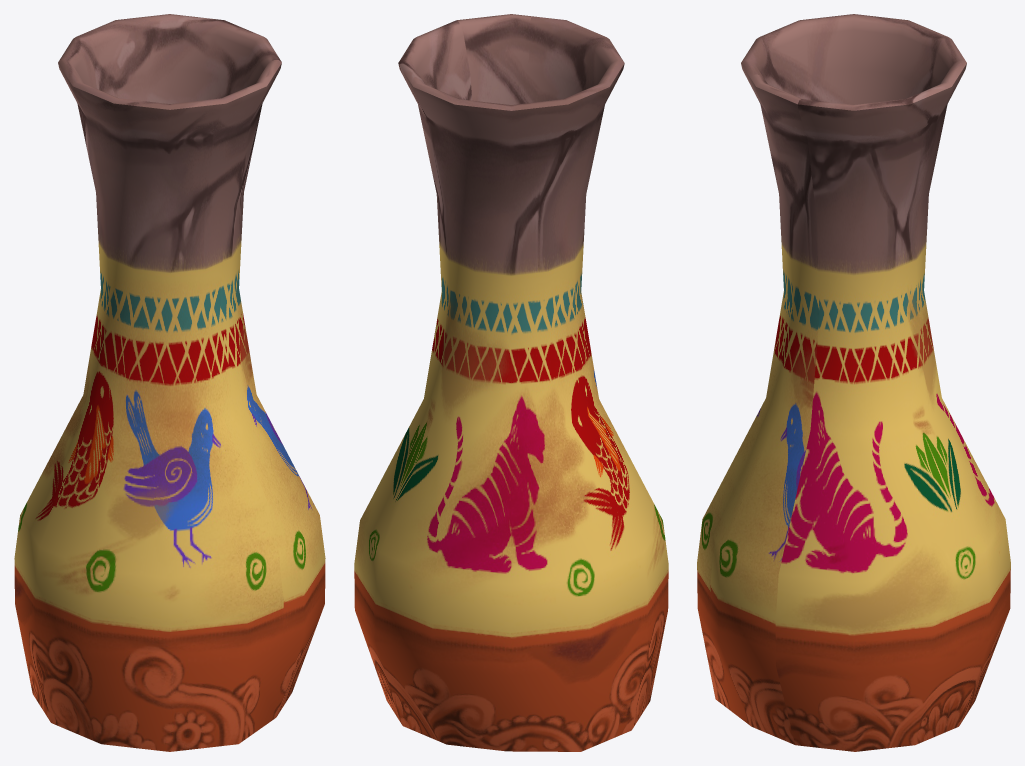
File: Market_pottery5.fbx
3 views of the same model, side by side, from view 1: azimuth 30°, elevation 25°; view 2: azimuth 150°, elevation 25°; view 3: azimuth 270°, elevation 25° (orthographic).
Parts seen in each view (by area): view 1: Market_pottery5; view 2: Market_pottery5; view 3: Market_pottery5.
Part boxes in pixels (box(x1,y1,x2,y2)): Market_pottery5: box(14, 14, 325, 751); Market_pottery5: box(354, 14, 668, 751); Market_pottery5: box(697, 14, 1010, 751).
Bounding box in the file's own units: 0.147 × 0.3302 × 0.147.
